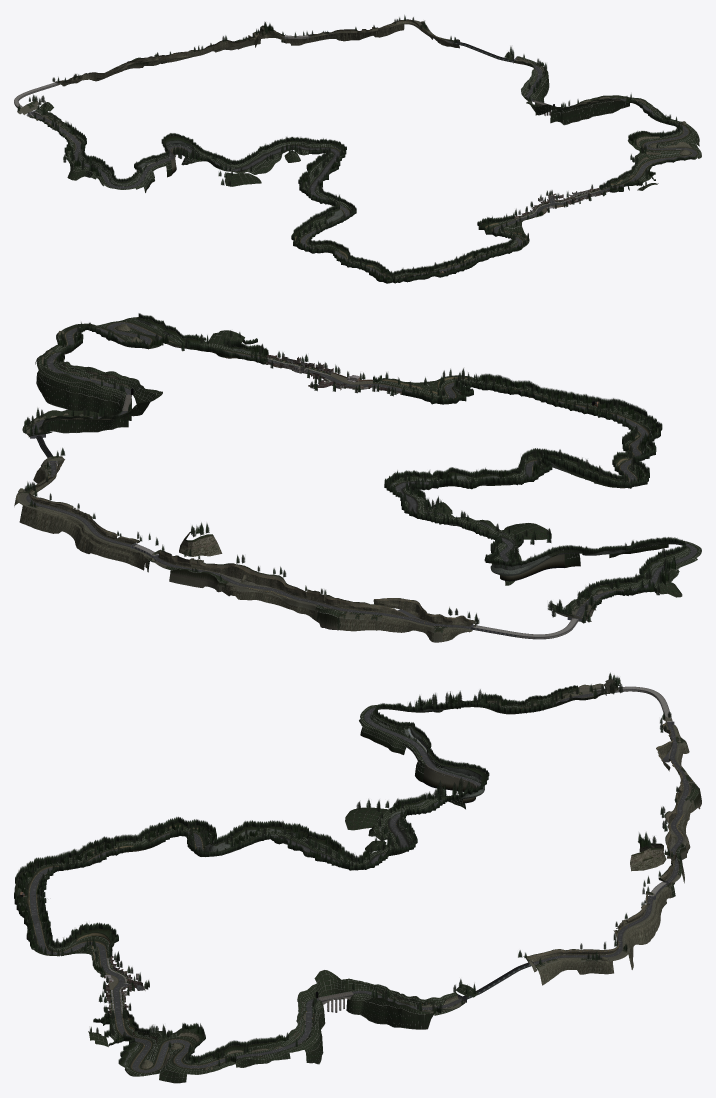
The model's file is nfs_iii_hot_pursuit_-_rocky_pass.glb.
3 views of the same model, one above another, from view 1: azimuth 30°, elevation 25°; view 2: azimuth 150°, elevation 25°; view 3: azimuth 270°, elevation 25° (orthographic). The views are drawn at different scales.
Visible parts, largest first — view 1: 0001_material_atlas_00005_1_0; view 2: 0001_material_atlas_00005_1_0; view 3: 0001_material_atlas_00005_1_0.
Part boxes in pixels (left/top/right/bottom): 0001_material_atlas_00005_1_0: left=14, top=15, right=701, bottom=283; 0001_material_atlas_00005_1_0: left=14, top=313, right=701, bottom=642; 0001_material_atlas_00005_1_0: left=14, top=672, right=701, bottom=1083.
Bounding box in the file's own units: 2341 × 314 × 1912.
1 material, 1 textured.
